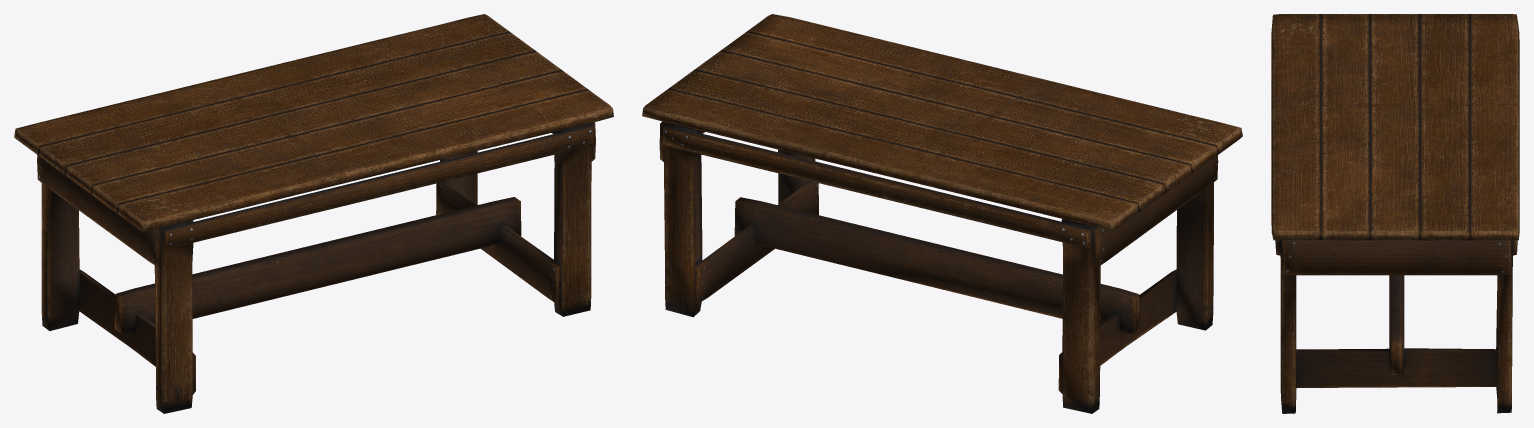
Rendered from wooden table.fbx.
3 renders of one model, left to right at view 1: azimuth 30°, elevation 25°; view 2: azimuth 150°, elevation 25°; view 3: azimuth 270°, elevation 25°, orthographic. The views are drawn at different scales.
Parts seen in each view (by area): view 1: table_; view 2: table_; view 3: table_.
Boxes of the visible parts, box(x1,y1,x2,y2) form: table_: box(14, 14, 613, 413); table_: box(642, 14, 1242, 413); table_: box(1271, 14, 1519, 413).
Size of the model in its own units: 245 by 99.7 by 117.
Materials: 1 (1 with a texture image).
